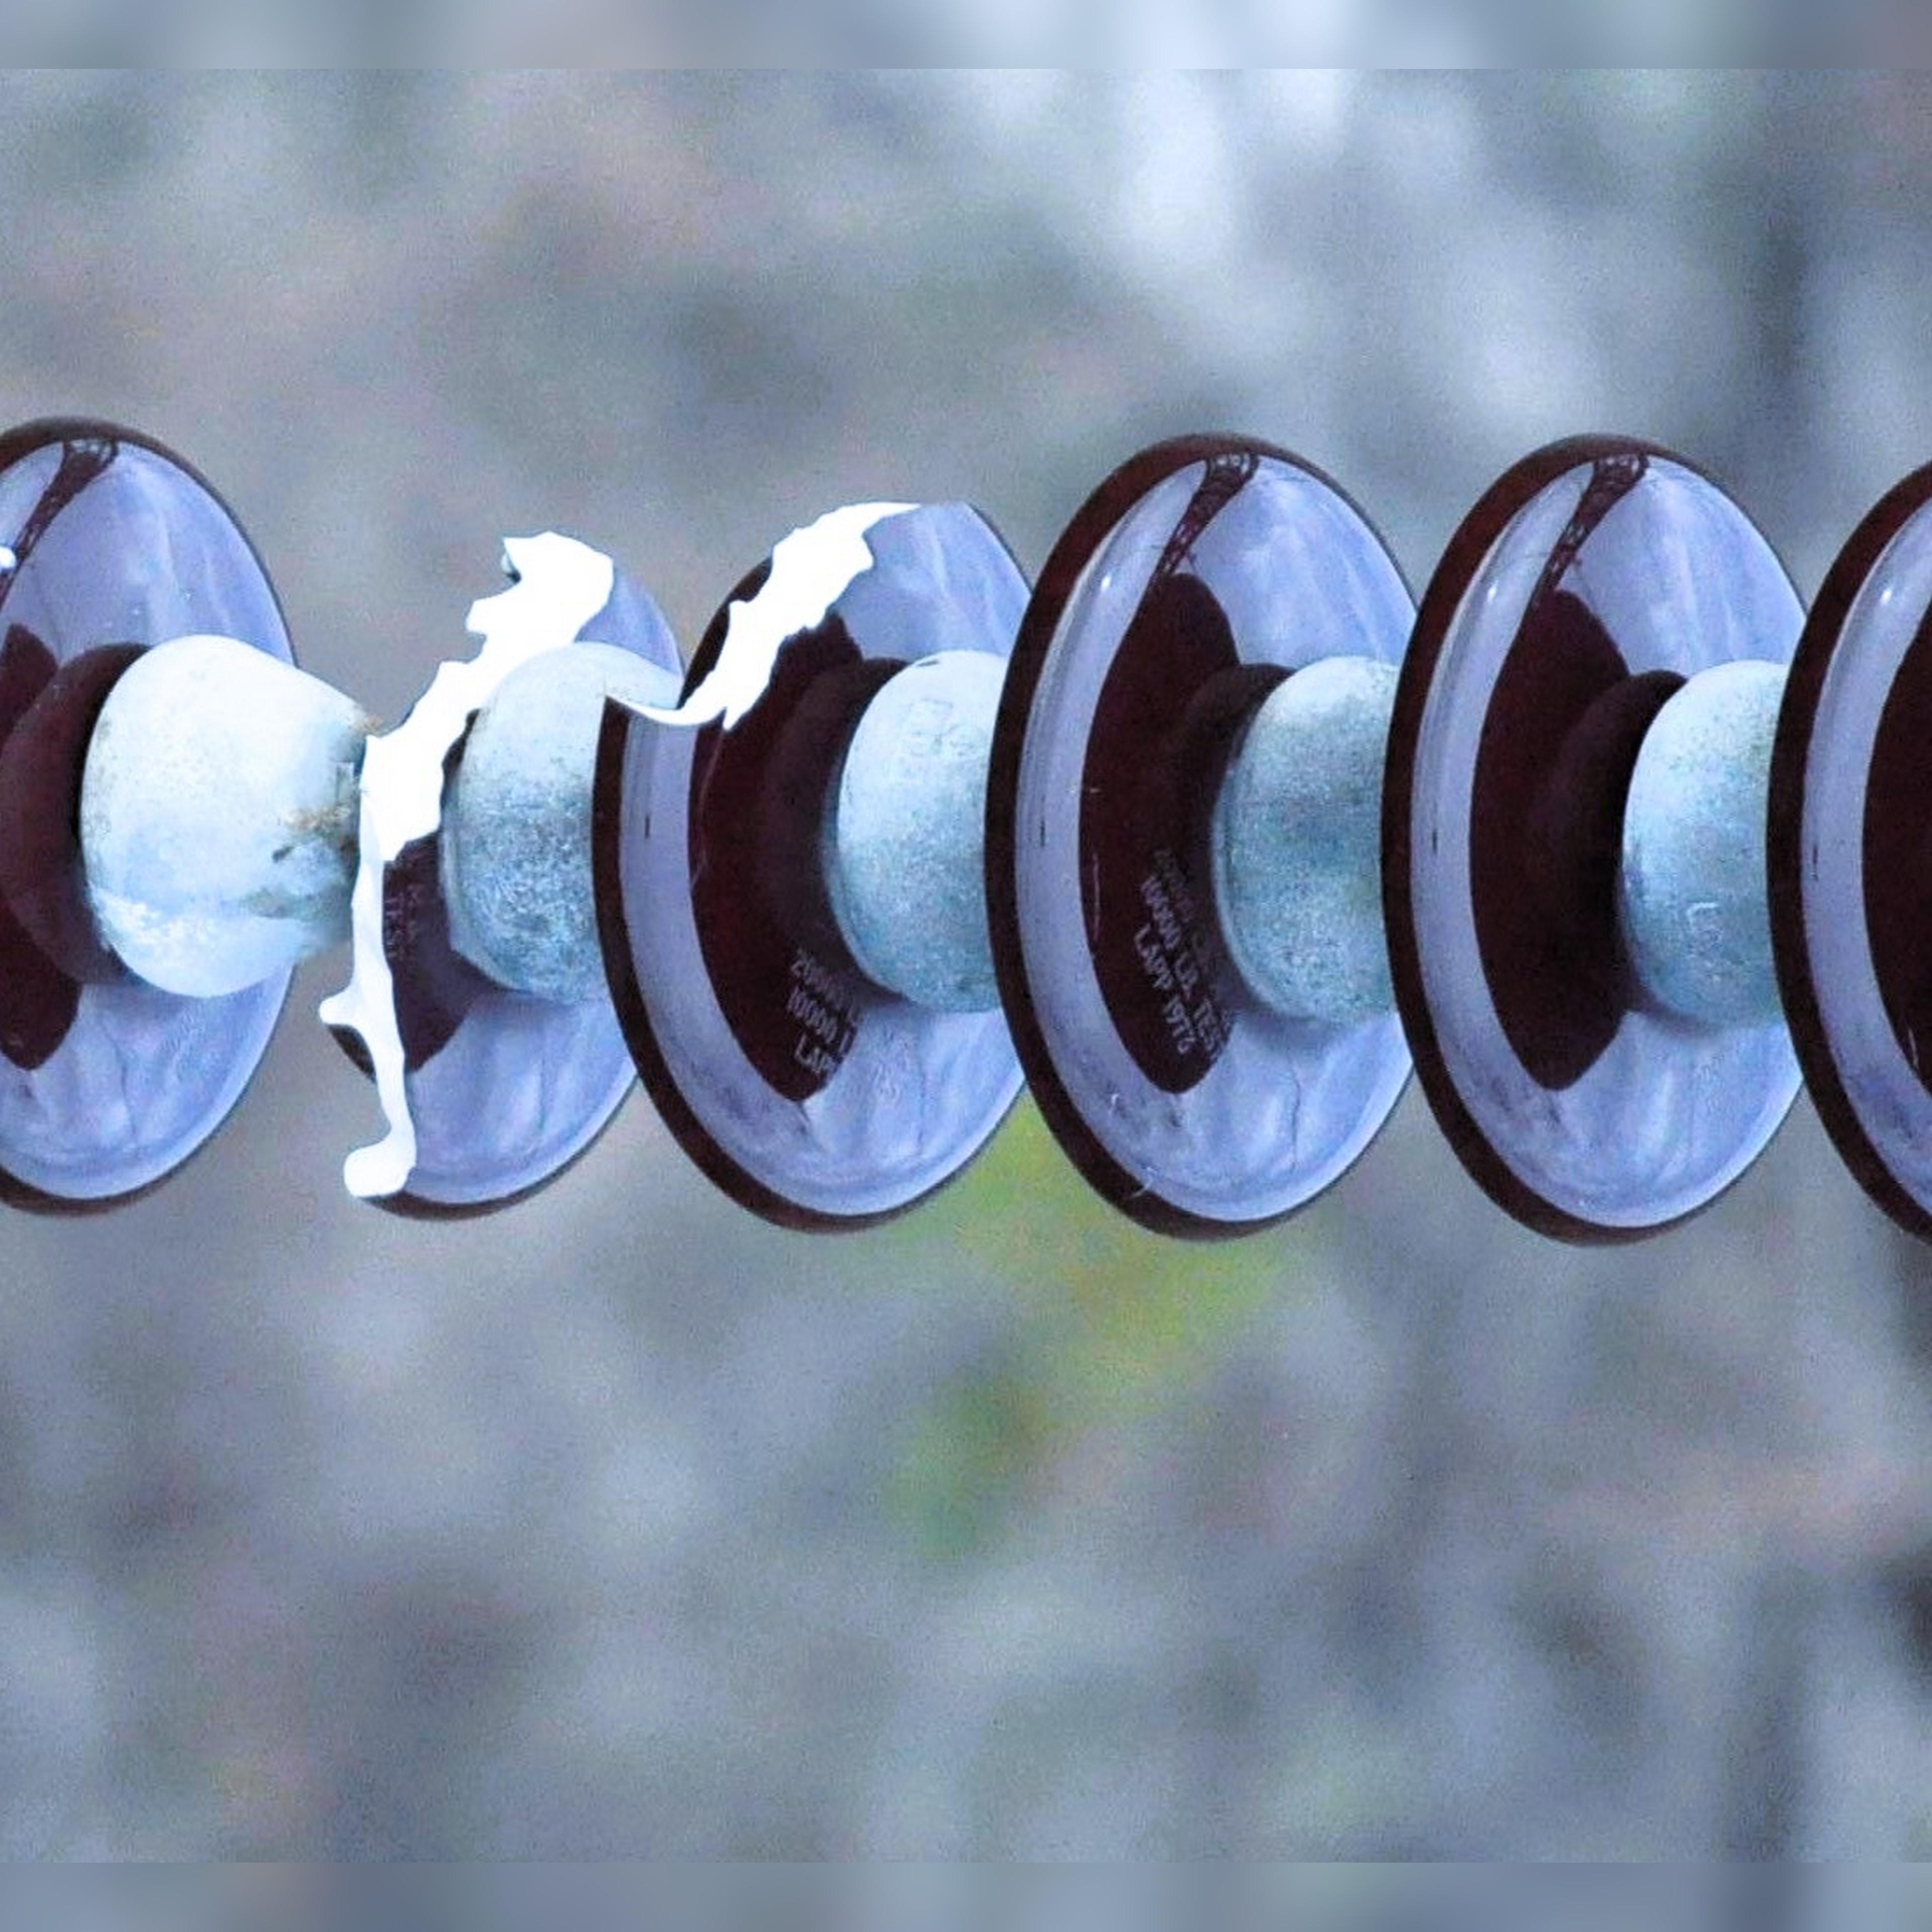insulator breakage: (612, 442, 1056, 1240), (272, 462, 600, 1246)
